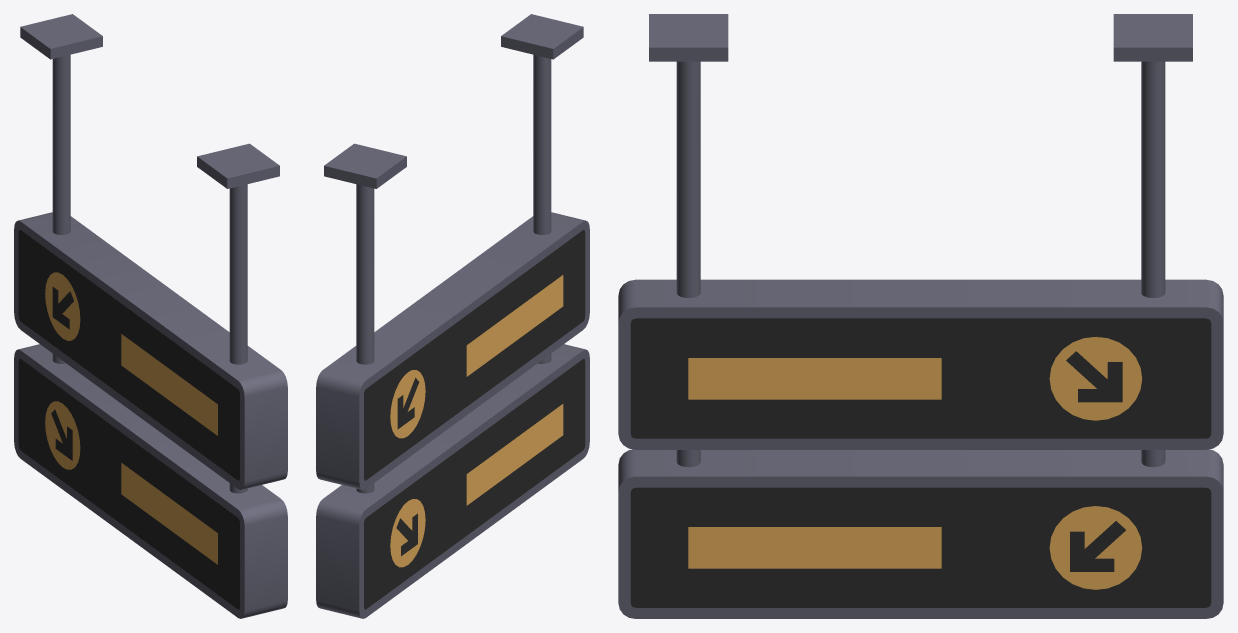
File: 17_1_Model_AIRPORT_0.obj
3 views of the same model, side by side, from view 1: azimuth 30°, elevation 25°; view 2: azimuth 150°, elevation 25°; view 3: azimuth 270°, elevation 25° (orthographic). The views are drawn at different scales.
Visible parts, largest first — view 1: 17.1.Model_AIRPORT_0; view 2: 17.1.Model_AIRPORT_0; view 3: 17.1.Model_AIRPORT_0.
Boxes of the visible parts, x1,y1,x2,y2 form: 17.1.Model_AIRPORT_0: (14,14,287,618); 17.1.Model_AIRPORT_0: (316,14,589,618); 17.1.Model_AIRPORT_0: (618,14,1223,618).
Size of the model in its own units: 0.2131 by 1.69 by 1.62.
1 material, 1 textured.
